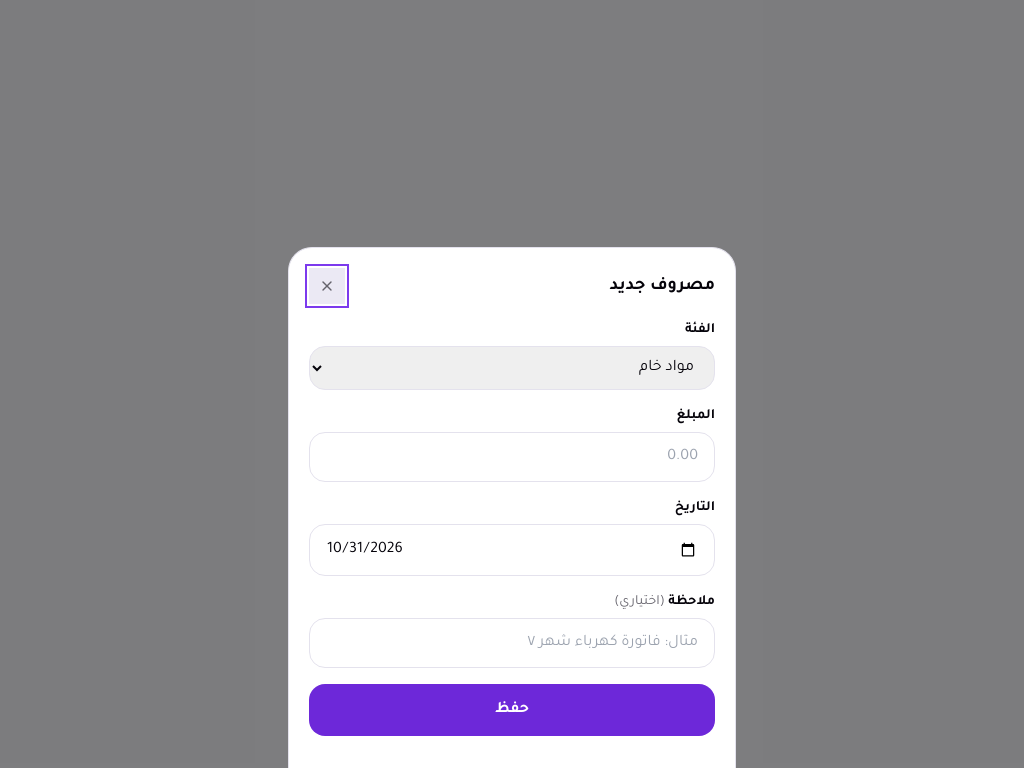
Scenario: expense save diagnostics › rejects invalid amount 0 without claiming an HTTP failure
Type "0" into the number field labelled "المبلغ". click: [512, 457]
box: [309,432,715,482]
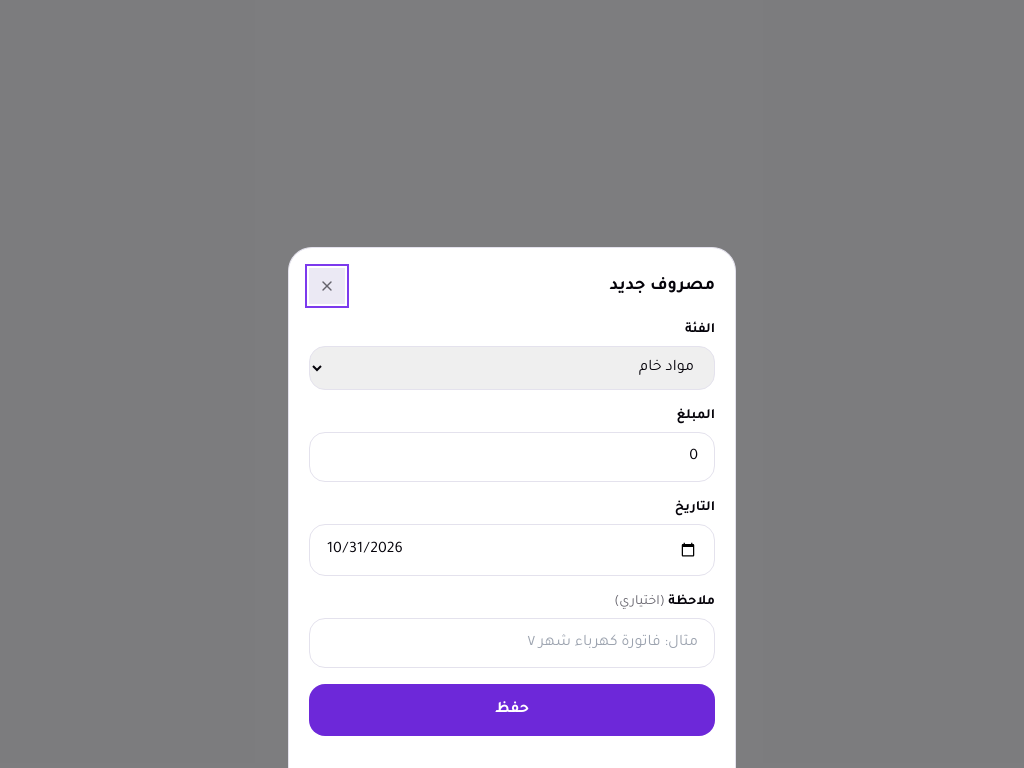
Submit the form "حفظ", box [309,320,715,736]
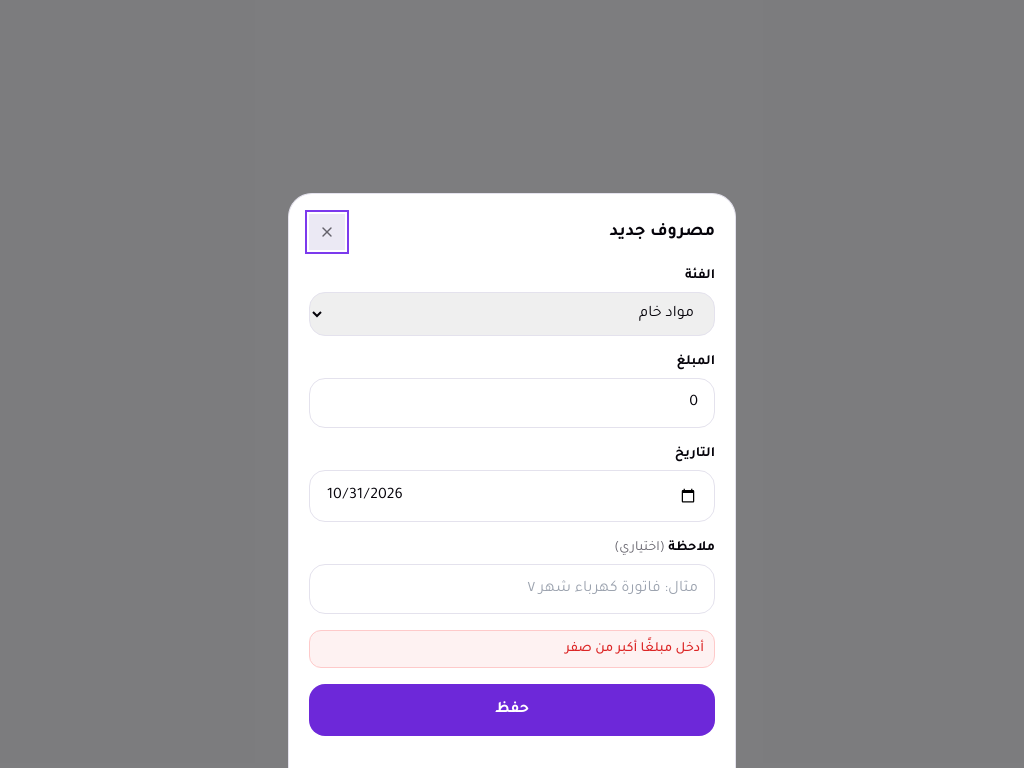
expect the text "أدخل مبلغًا أكبر من صفر" is shown: met, box [565,642,704,656]
